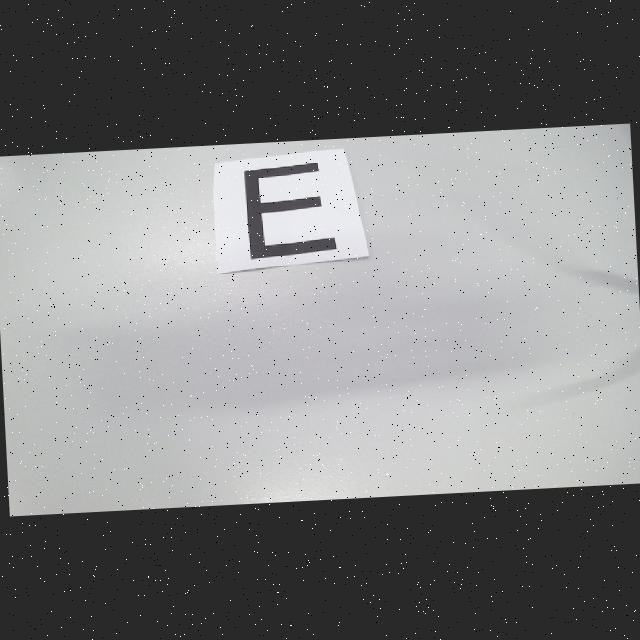FAKE: (245, 162, 338, 260)
